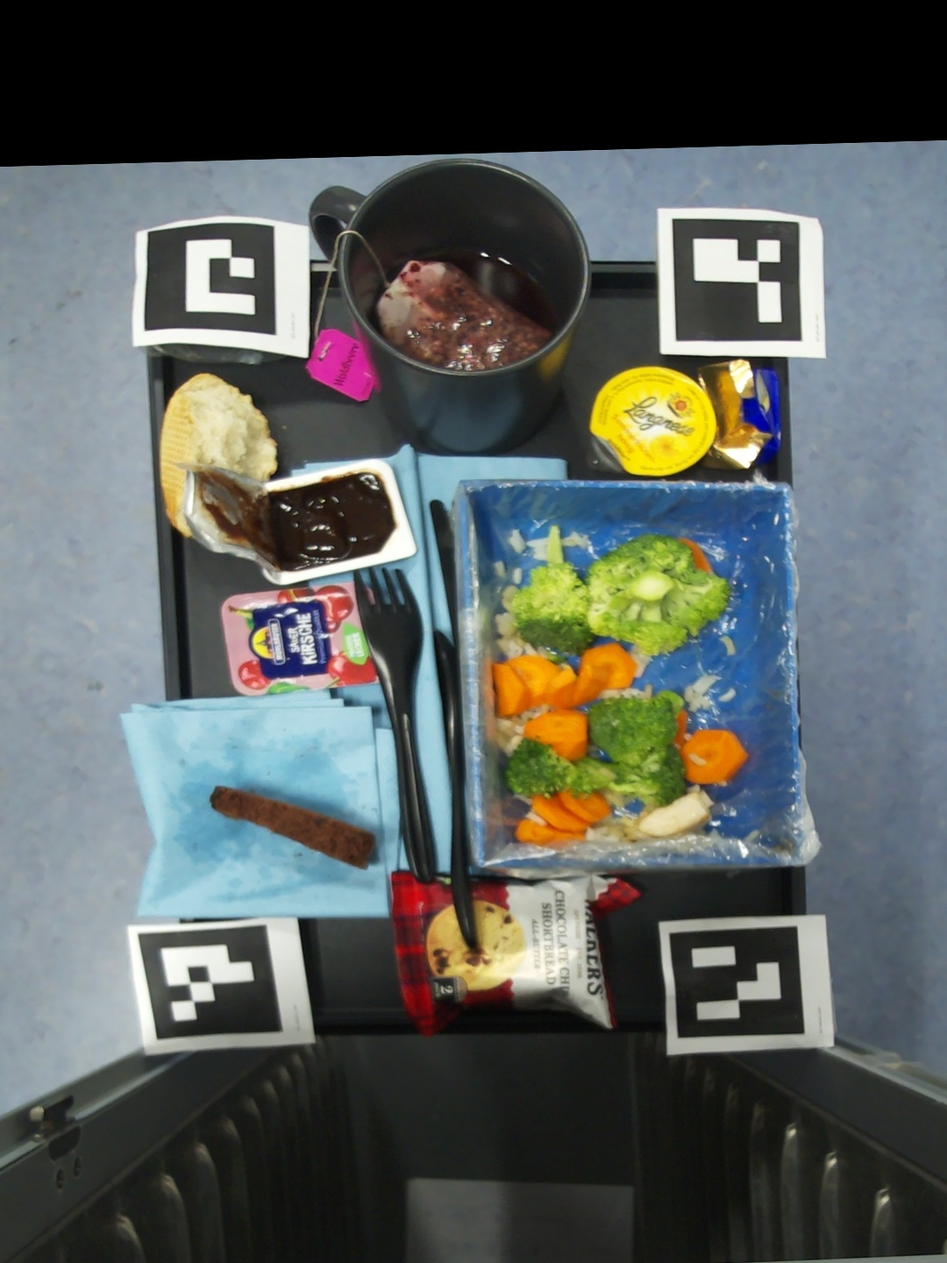bread_roll: (160, 374, 278, 538)
broccoli: (511, 524, 731, 655), (505, 691, 687, 807), (547, 651, 564, 664)
brownie: (211, 789, 376, 870)
butter: (697, 360, 782, 470)
carrots: (493, 643, 638, 760), (674, 708, 748, 785), (516, 792, 613, 844), (679, 538, 711, 572)
cherry_jam: (223, 579, 389, 691)
chicken: (639, 793, 709, 837)
cookie: (391, 869, 640, 1039)
honey: (588, 365, 716, 476)
plum_jam: (179, 457, 417, 585)
rice: (494, 585, 548, 659), (496, 702, 555, 757), (584, 804, 657, 843), (684, 676, 718, 712), (509, 529, 548, 560), (596, 684, 653, 700), (628, 644, 652, 678), (687, 783, 715, 807), (599, 790, 638, 806), (583, 529, 613, 548), (687, 820, 719, 837), (561, 531, 589, 550), (524, 811, 547, 827), (720, 635, 736, 656), (689, 754, 708, 767), (744, 829, 761, 842), (493, 560, 505, 578), (718, 689, 736, 701), (514, 794, 533, 805), (543, 786, 559, 799), (511, 567, 523, 584), (712, 779, 731, 787), (558, 663, 573, 671), (561, 532, 571, 542), (684, 733, 692, 742), (673, 743, 681, 750)
tea_cup: (310, 158, 589, 455)
